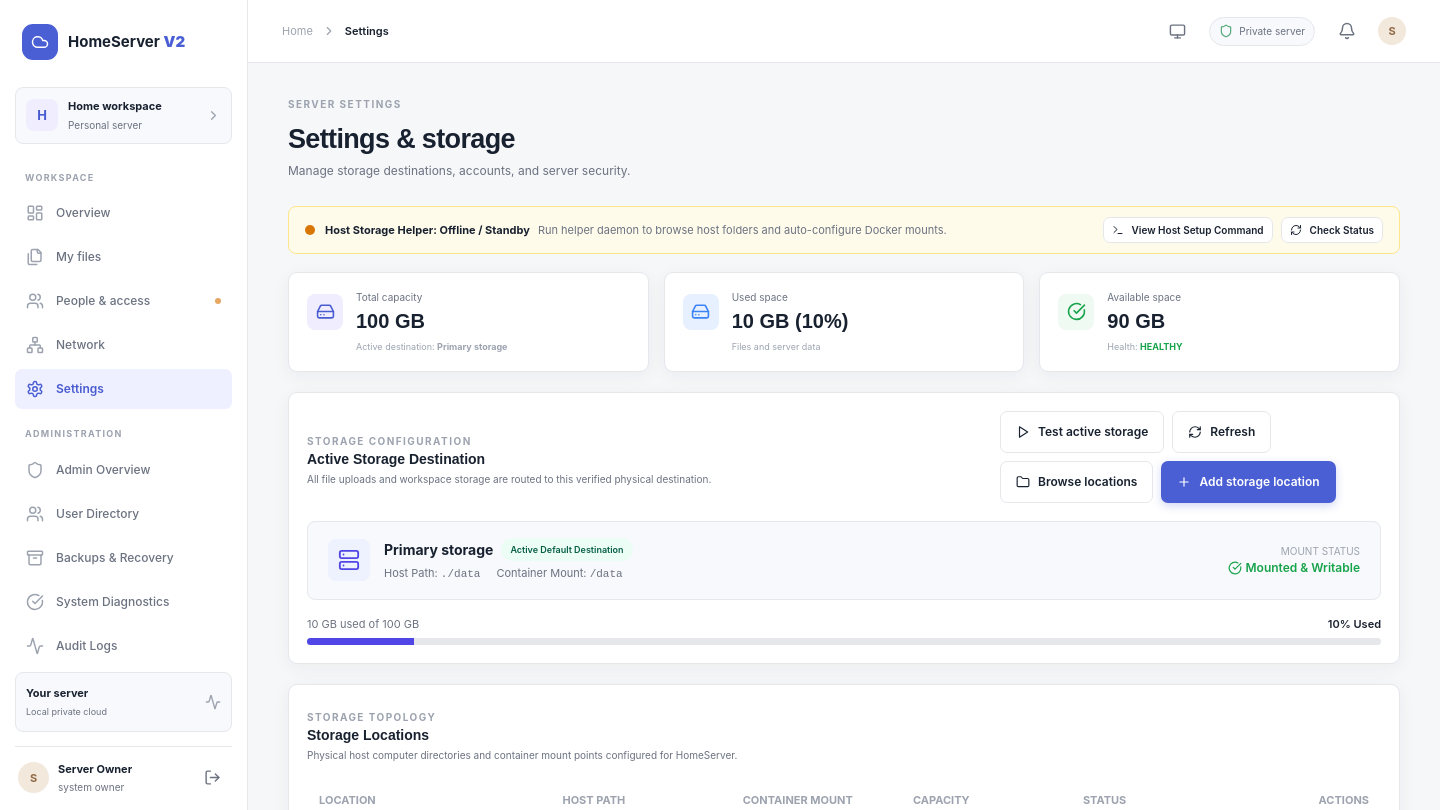
Test case: HomeServer V2 user flows › renders storage management and opens the browse modal
Check: the heading "Settings & storage" is shown, box [288,124,515,154]
Check: the heading "Active Storage Destination" is shown, box [307,451,485,467]
Click the button "Browse locations".
click(1077, 482)  # box [1000,461,1153,503]
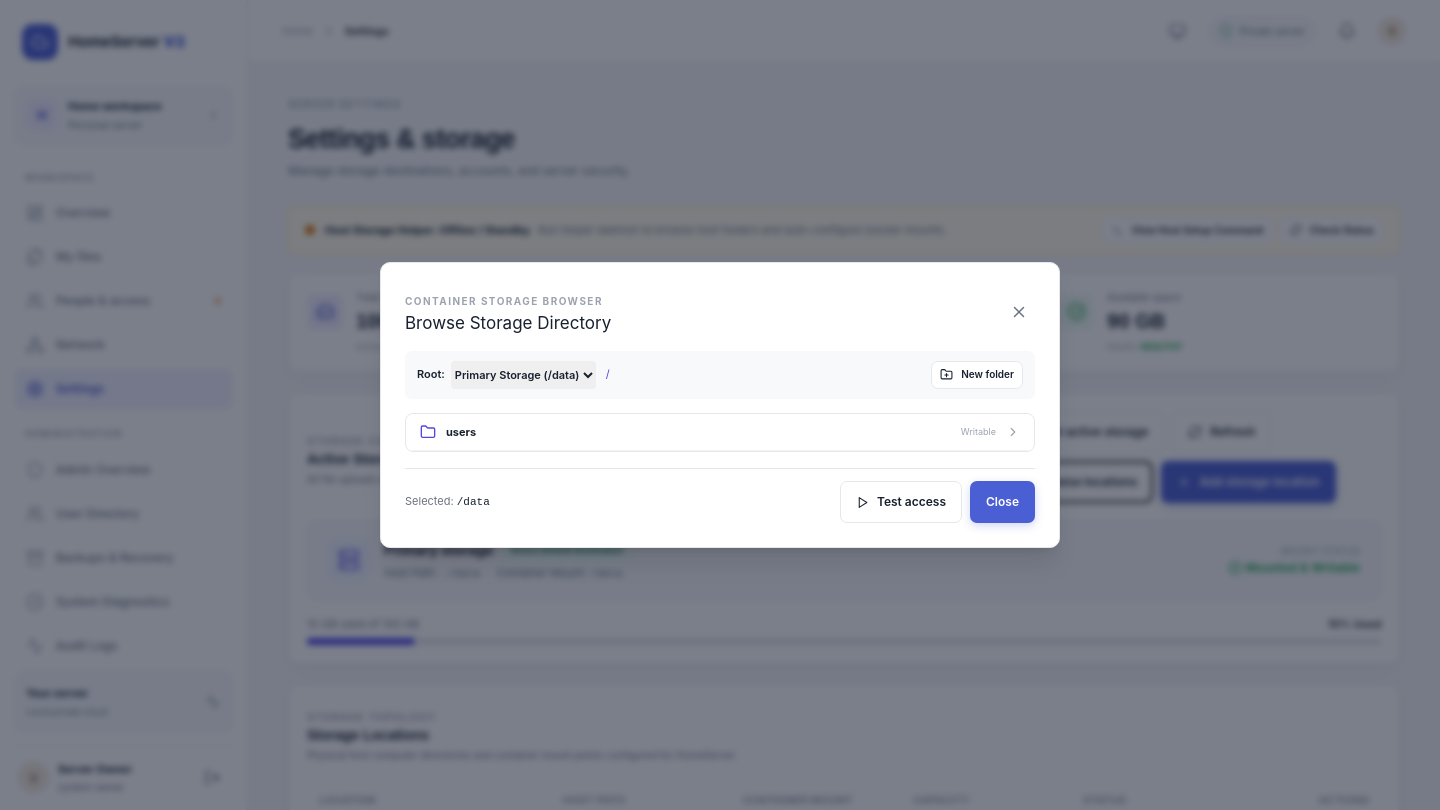
Check: the heading "Browse Storage Directory" is shown, box [405,311,611,336]
Check: the text "users" is shown, box [446,424,476,440]
